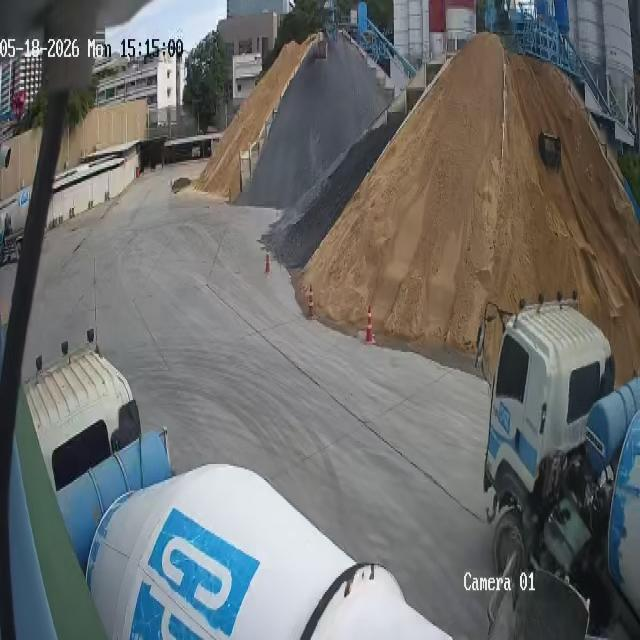cement_mixer_truck: (24, 343, 592, 638), (477, 292, 639, 638), (0, 187, 38, 265)
